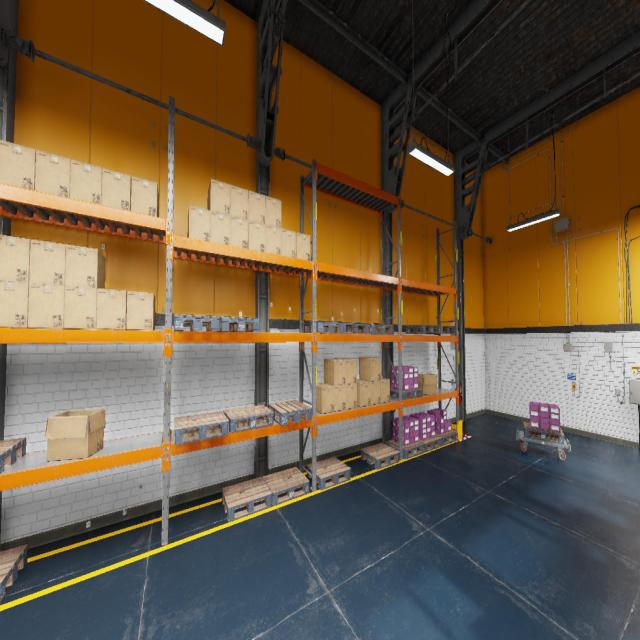box: (44, 409, 106, 461), (65, 244, 105, 289), (0, 140, 36, 190), (29, 240, 66, 286), (35, 150, 70, 197), (28, 284, 64, 328), (0, 235, 30, 282), (70, 160, 102, 204), (64, 286, 96, 329), (0, 282, 29, 328), (96, 288, 127, 329), (101, 168, 131, 210), (126, 291, 156, 330), (130, 176, 158, 217), (208, 178, 230, 215), (188, 205, 210, 241), (210, 211, 230, 245), (230, 185, 248, 220), (248, 190, 266, 224), (230, 216, 248, 248), (324, 359, 346, 385), (316, 382, 334, 413), (248, 220, 265, 252), (265, 195, 281, 228), (336, 358, 356, 384), (359, 357, 380, 381), (361, 379, 380, 405), (265, 224, 281, 254), (281, 228, 296, 258), (418, 373, 438, 394), (356, 379, 371, 407), (296, 232, 310, 260), (334, 385, 346, 411), (346, 384, 357, 409), (381, 377, 390, 403)
pallets: (222, 477, 272, 522), (174, 411, 229, 445), (262, 467, 309, 505), (0, 544, 28, 603), (306, 457, 351, 490), (224, 404, 273, 432), (268, 400, 311, 425), (361, 442, 400, 468), (0, 437, 26, 473), (524, 422, 564, 444), (174, 315, 220, 331), (388, 439, 424, 458), (219, 317, 260, 332), (304, 322, 344, 333), (417, 435, 442, 452), (390, 388, 422, 400), (405, 324, 440, 334), (435, 430, 458, 445), (336, 324, 369, 334), (426, 325, 456, 334), (368, 324, 394, 334)
